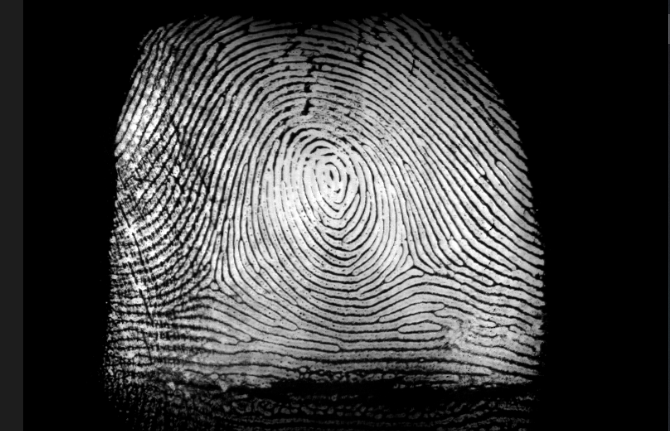nucelo: (317, 155, 344, 204)
verticilo: (199, 268, 227, 299), (401, 257, 427, 276)
